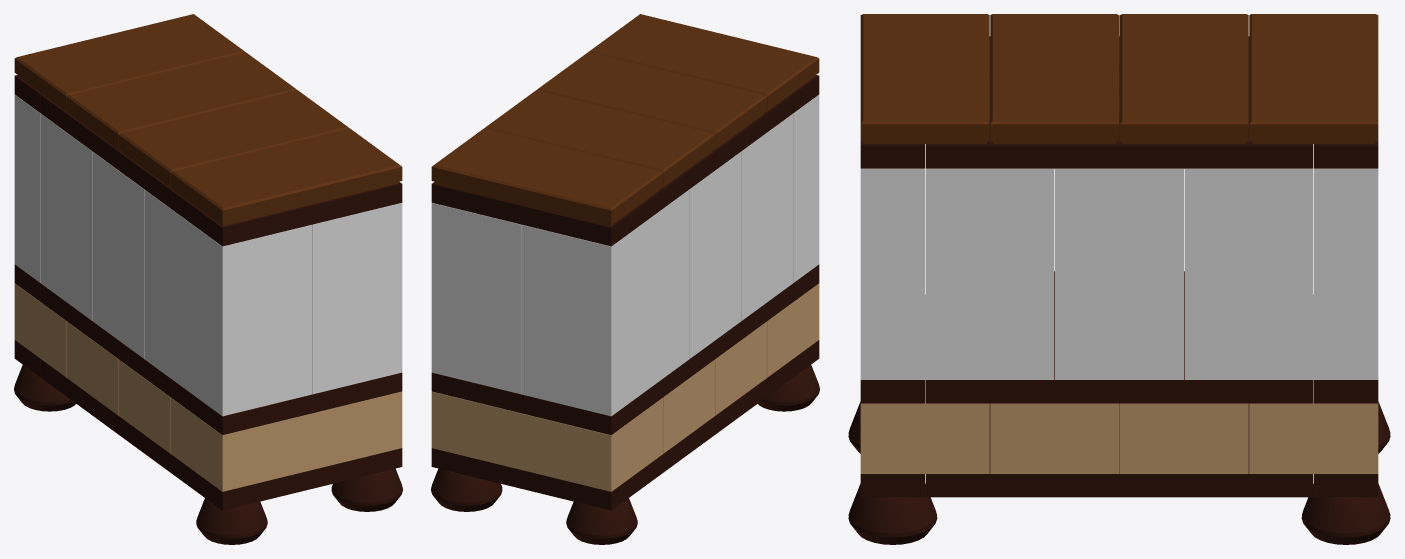
Rendered from displayCase.fbx.
3 views of the same model, side by side, from view 1: azimuth 30°, elevation 25°; view 2: azimuth 150°, elevation 25°; view 3: azimuth 270°, elevation 25° (orthographic). The views are drawn at different scales.
Parts seen in each view (by area): view 1: Case; view 2: Case; view 3: Case.
Boxes of the visible parts, x1,y1,x2,y2 form: Case: (14, 14, 402, 544); Case: (431, 14, 819, 544); Case: (848, 14, 1390, 544).
Bounding box in the file's own units: 3496 × 5756 × 6696.
